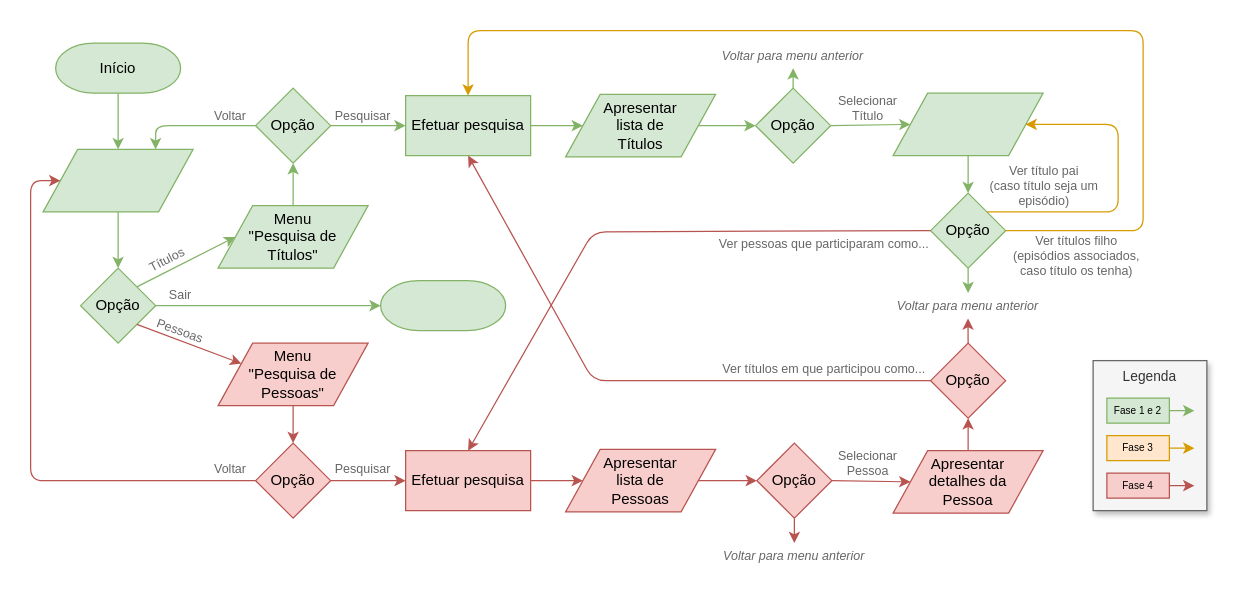
Image size: 1236x590. Some labels were removed from this diagram. The centre of each missing label's shape, as x and y in pixels:
Apresentar detalhes do Título: point (967, 124)
Fim: point (442, 305)
Menu "Tipo de Pesquisa": point (117, 180)
